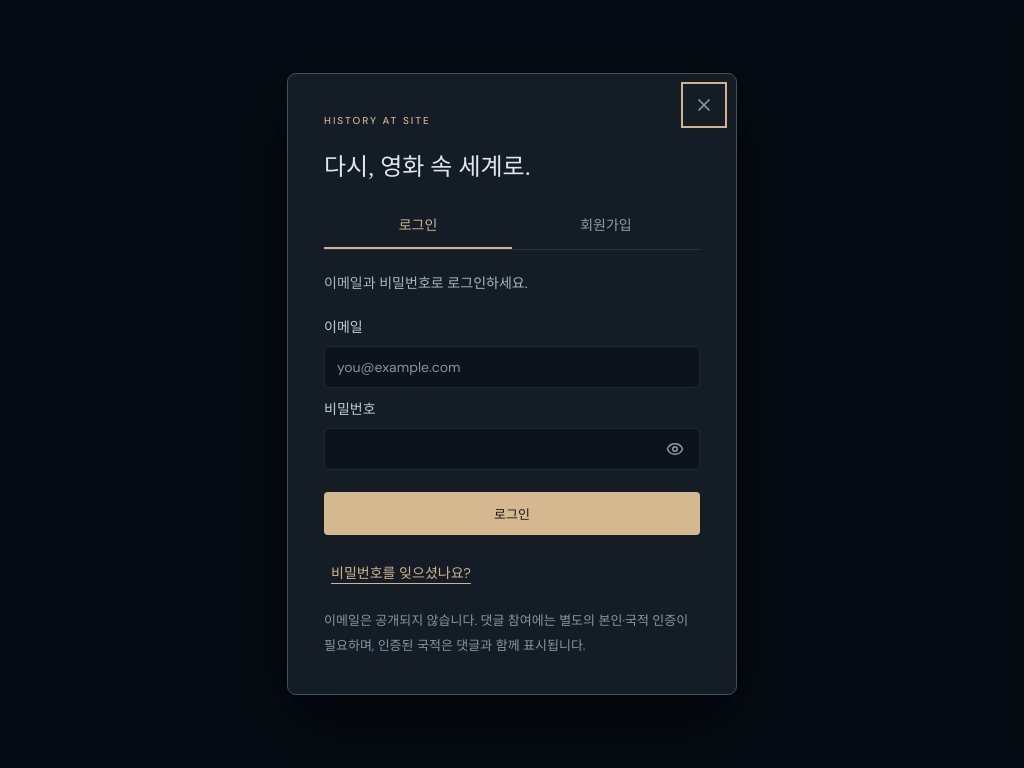
Test case: email account dialog › does not expose whether a password-reset email belongs to an account
The width and height of the screenshot is (1024, 768).
Click the button "비밀번호를 잊으셨나요?". click: (401, 572)
box: x1=324 y1=555 x2=478 y2=589
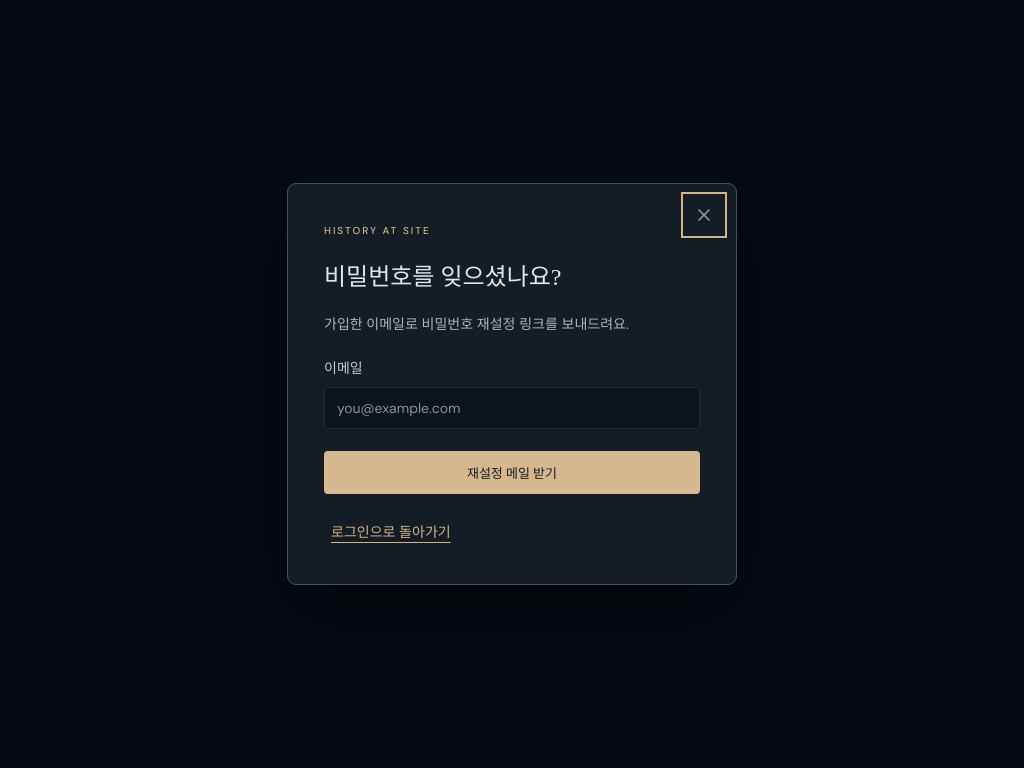
Type "reader@example.com" into the field labelled "이메일". click: (512, 408)
box: x1=324 y1=387 x2=700 y2=429
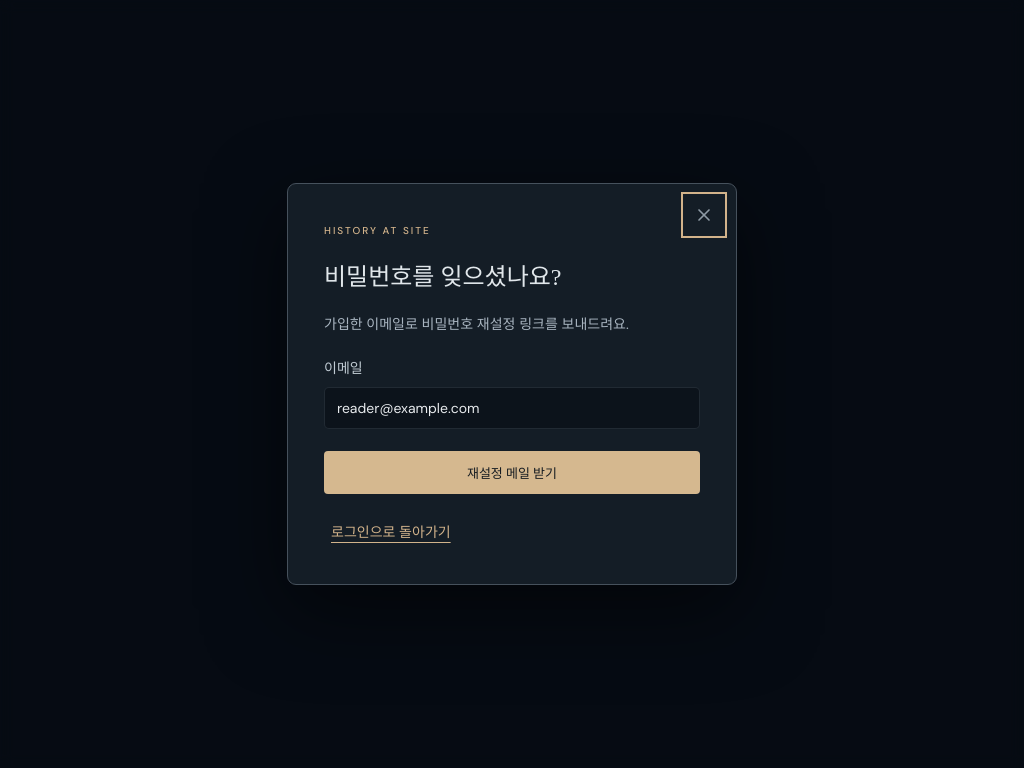
Submit the form, box x1=324 y1=357 x2=700 y2=494
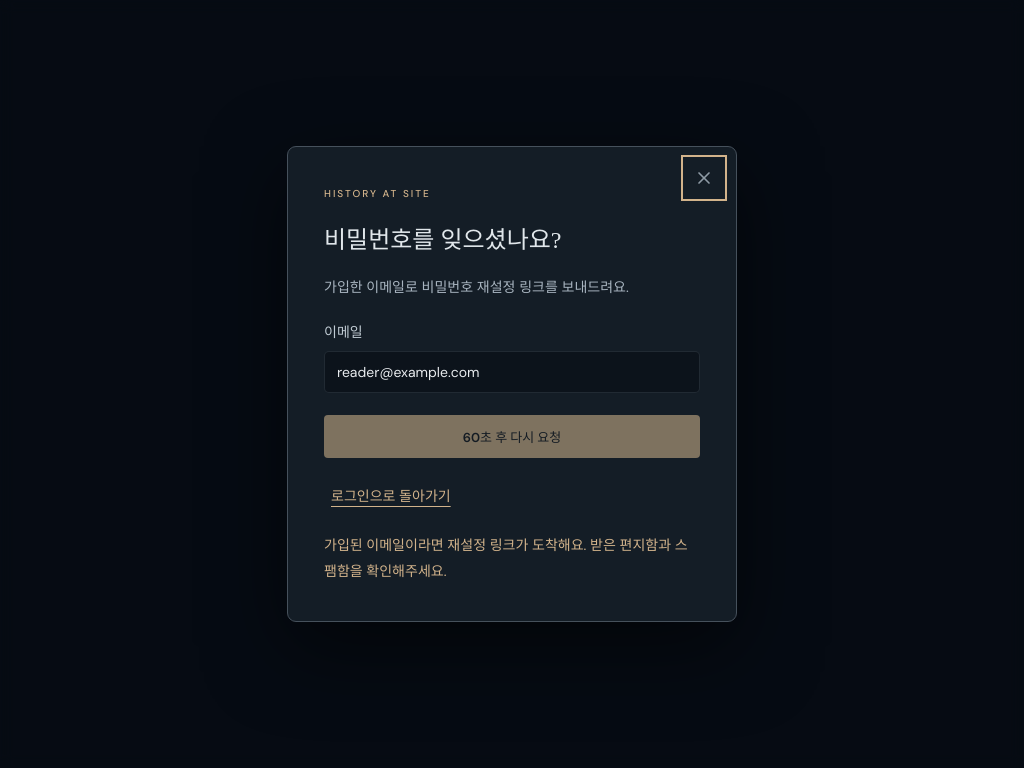
Expected: the text "가입된 이메일이라면 재설정 링크가 도착해요. 받은 편지함과 스팸함을 확인해주세요." is shown, x1=324 y1=532 x2=700 y2=585
